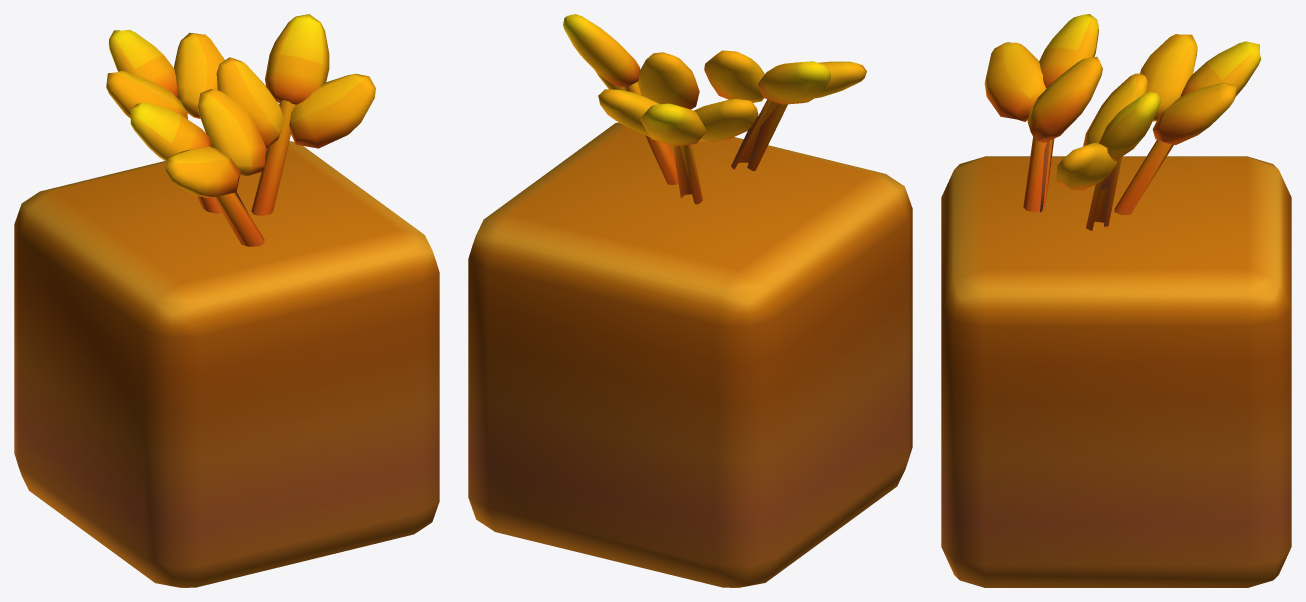
File: wheat_block_2 1.fbx
The picture shows the model from 3 angles, left to right: view 1: azimuth 30°, elevation 25°; view 2: azimuth 150°, elevation 25°; view 3: azimuth 270°, elevation 25°; orthographic projection. The views are drawn at different scales.
Parts seen in each view (by area): view 1: block_wheat.002; view 2: block_wheat.002; view 3: block_wheat.002.
Boxes of the visible parts, box(x1,y1,x2,y2) form: block_wheat.002: box(14, 14, 439, 587); block_wheat.002: box(468, 14, 912, 587); block_wheat.002: box(941, 14, 1291, 587).
Bounding box in the file's own units: 11491 × 17501 × 11491.
